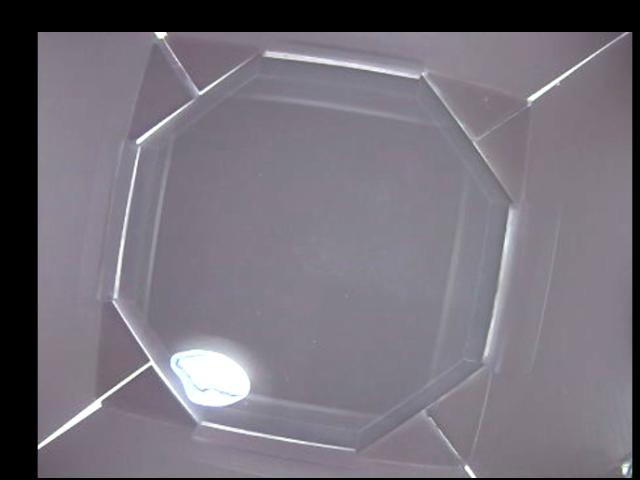Pebble: (171, 347, 251, 406)
